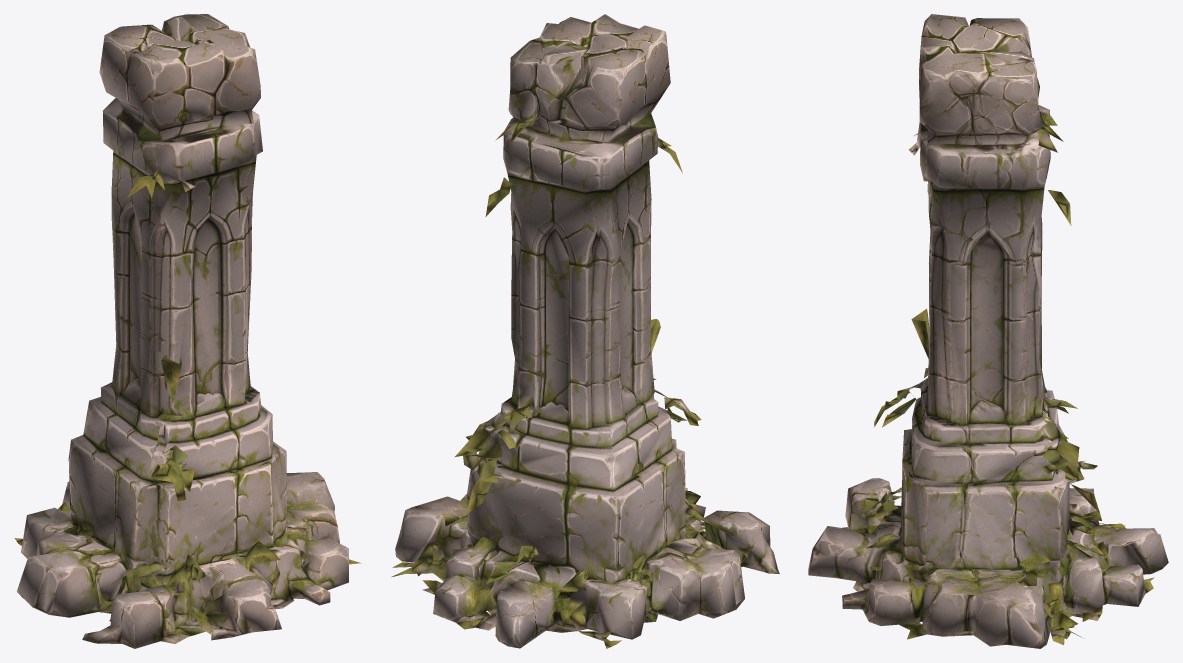
File: SM_StonePillar.fbx
3 renders of one model, left to right at view 1: azimuth 30°, elevation 25°; view 2: azimuth 150°, elevation 25°; view 3: azimuth 270°, elevation 25°, orthographic.
Parts seen in each view (by area): view 1: Mesh_0; view 2: Mesh_0; view 3: Mesh_0.
Part boxes in pixels (left/top/right/bottom): Mesh_0: left=14, top=14, right=361, bottom=648; Mesh_0: left=391, top=14, right=779, bottom=648; Mesh_0: left=808, top=14, right=1168, bottom=648.
Bounding box in the file's own units: 115 × 190 × 117.
Materials: 1 (1 with a texture image).
